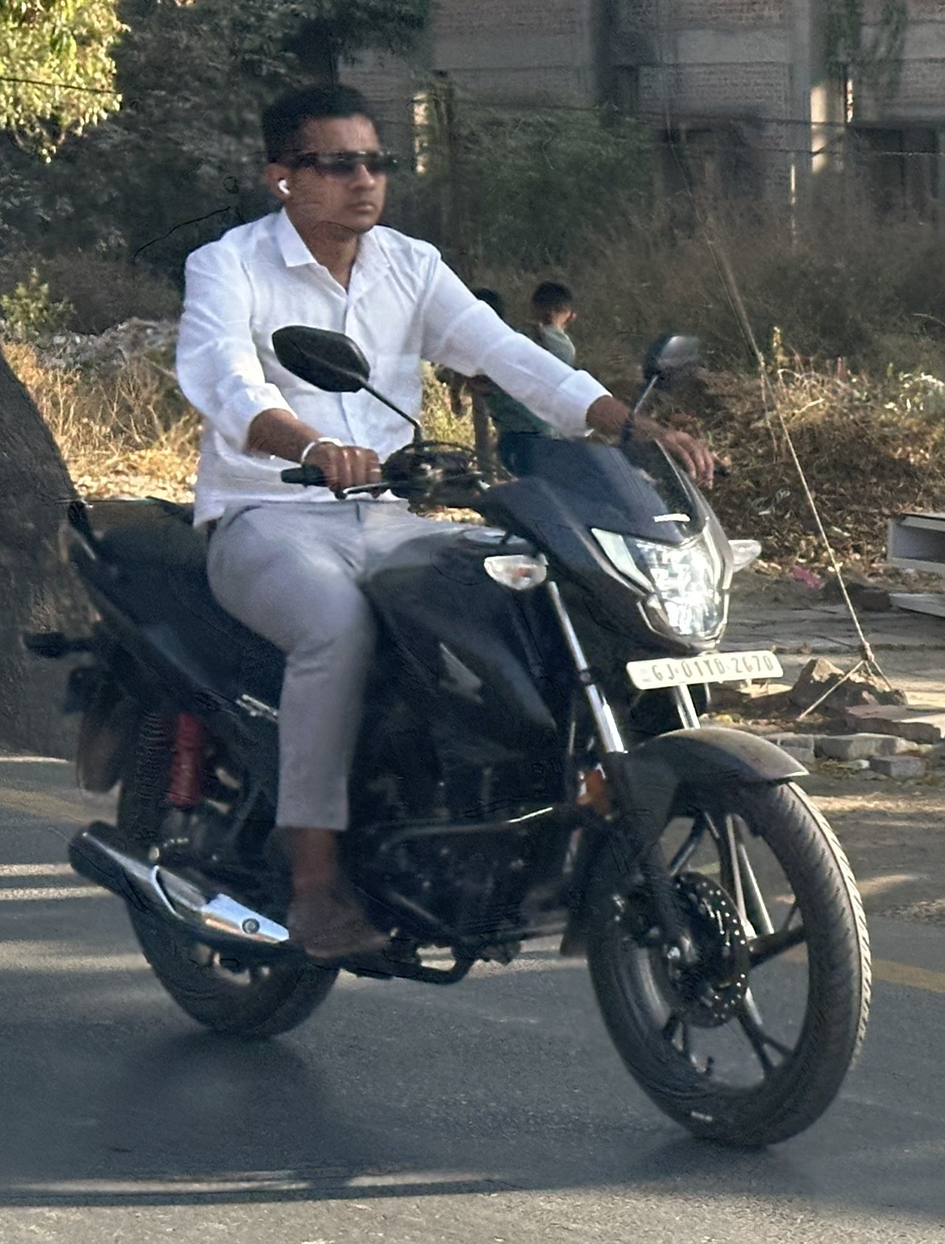BikeWithRider: (17, 69, 883, 1166)
NoHelmet: (237, 72, 404, 254)
